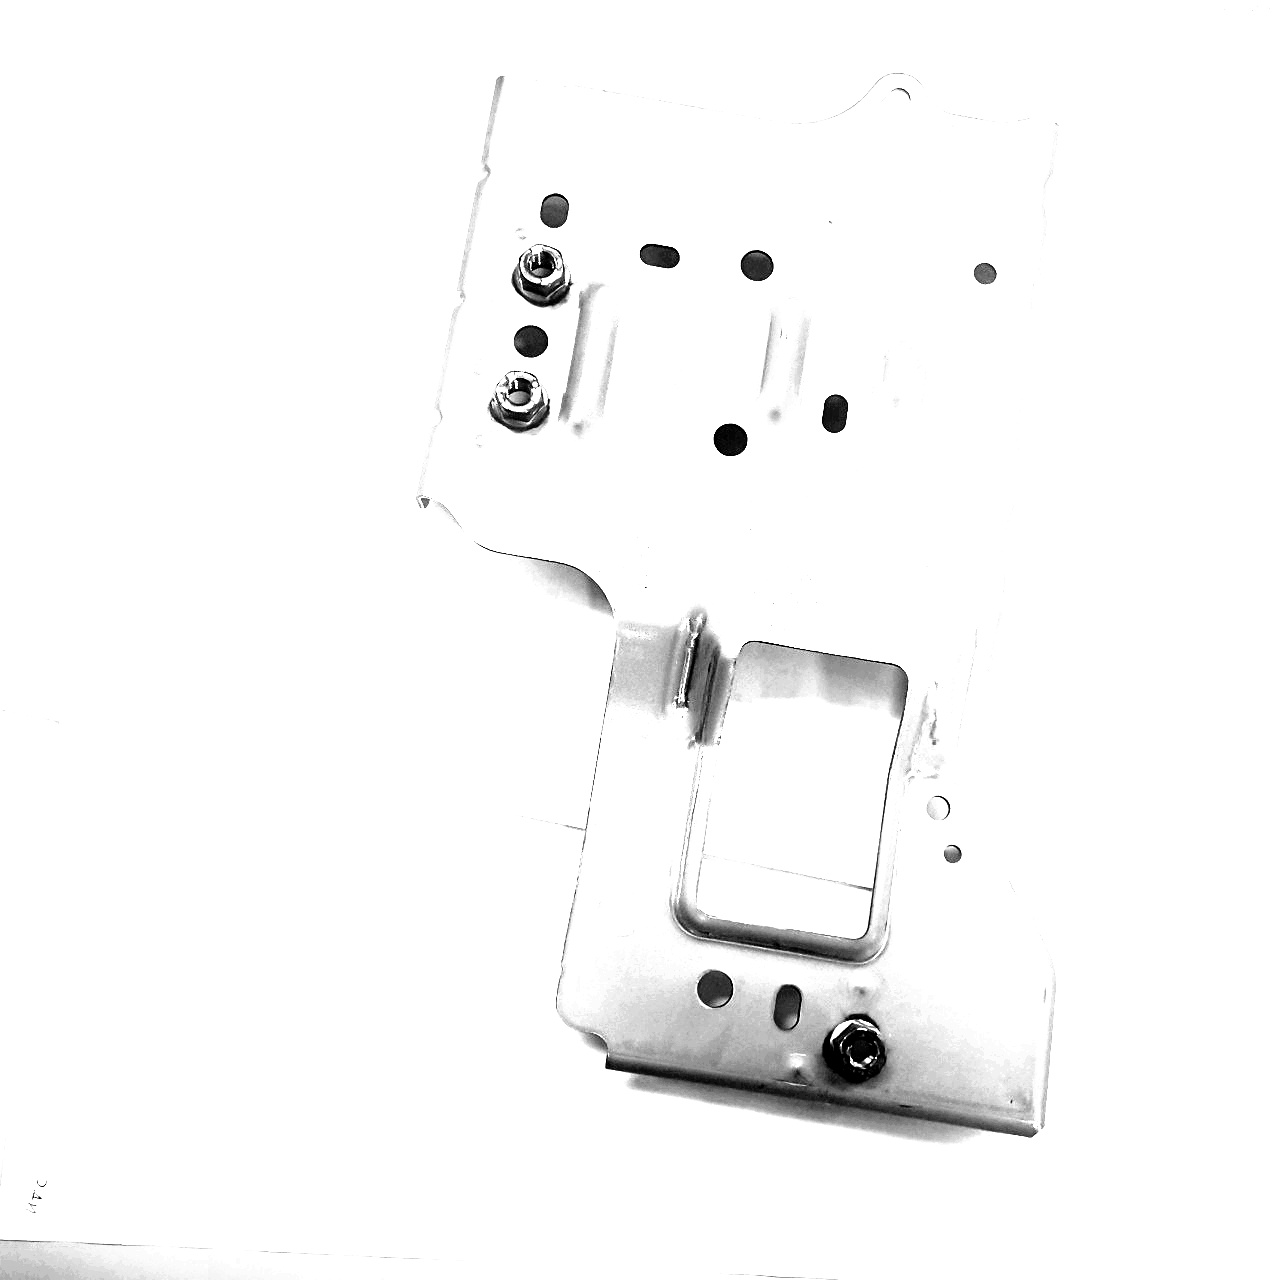dog: (821, 1010, 892, 1088), (508, 240, 578, 314), (482, 365, 556, 434)
